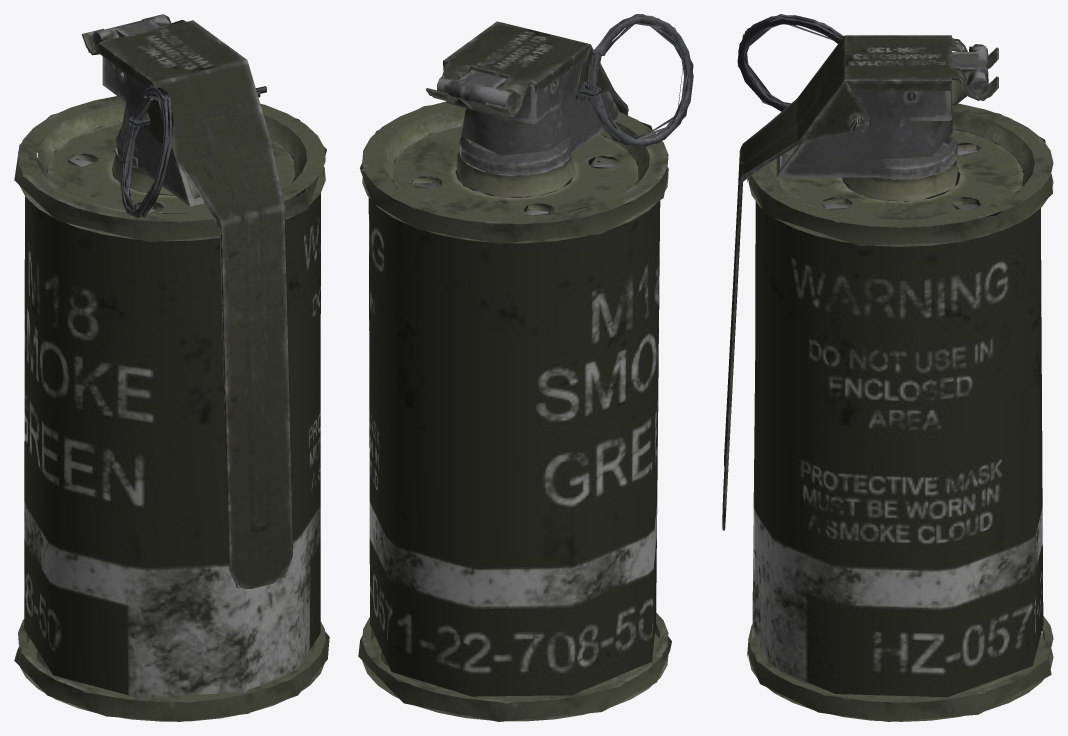
File: Grenade_Gas.fbx
3 views of the same model, side by side, from view 1: azimuth 30°, elevation 25°; view 2: azimuth 150°, elevation 25°; view 3: azimuth 270°, elevation 25° (orthographic).
Visible parts, largest first — view 1: GunMesh; view 2: GunMesh; view 3: GunMesh.
Part boxes in pixels (bbox=[...]): GunMesh: bbox=[14, 14, 329, 721]; GunMesh: bbox=[358, 14, 693, 721]; GunMesh: bbox=[722, 14, 1053, 721].
Bounding box in the file's own units: 0.0656 × 0.1451 × 0.0712.
1 material, 1 textured.
